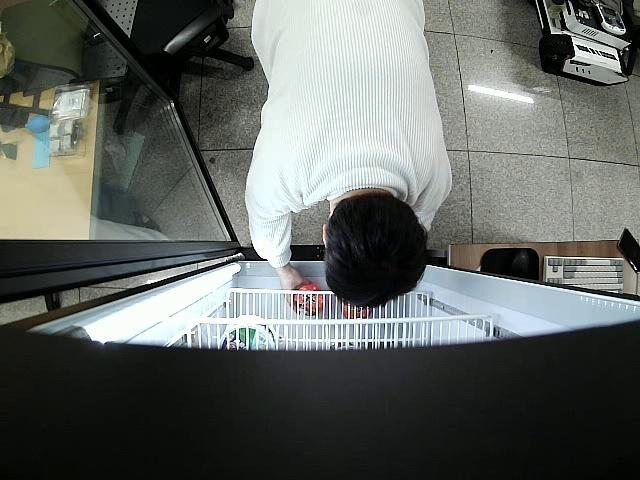02_shinRamen_S: (292, 285, 325, 316)
